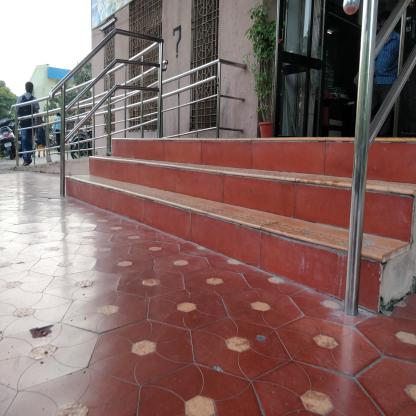stairs: (160, 145, 338, 303)
